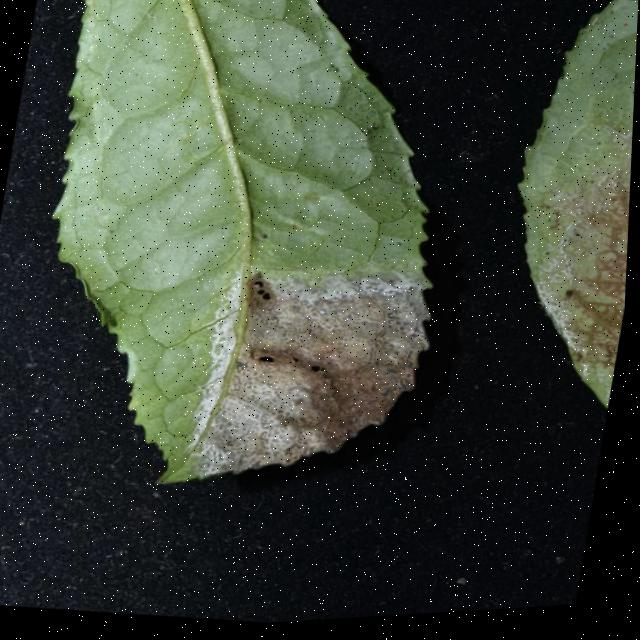Tea exobasidium blight: (169, 239, 442, 508)
